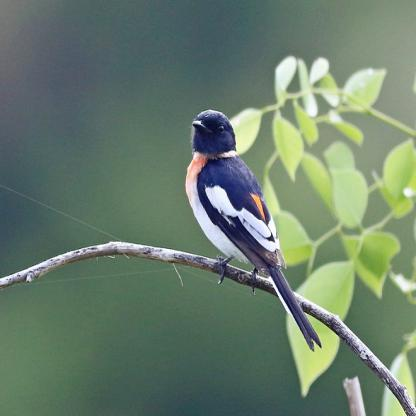Burung: (184, 109, 322, 352)
